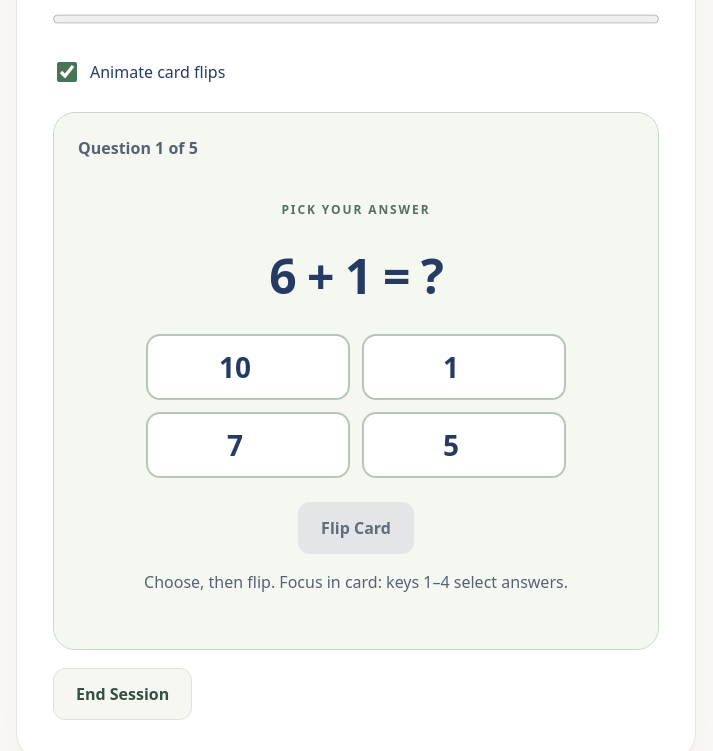
Test: practice session page › starts a real session, counts only reports, and resets/focuses the next card
(page scrolled)
Expected: the text "Question 1 of 5" is shown, [78,138,198,160]
Click the button "10". click: point(248, 367)
box: [146,334,350,400]
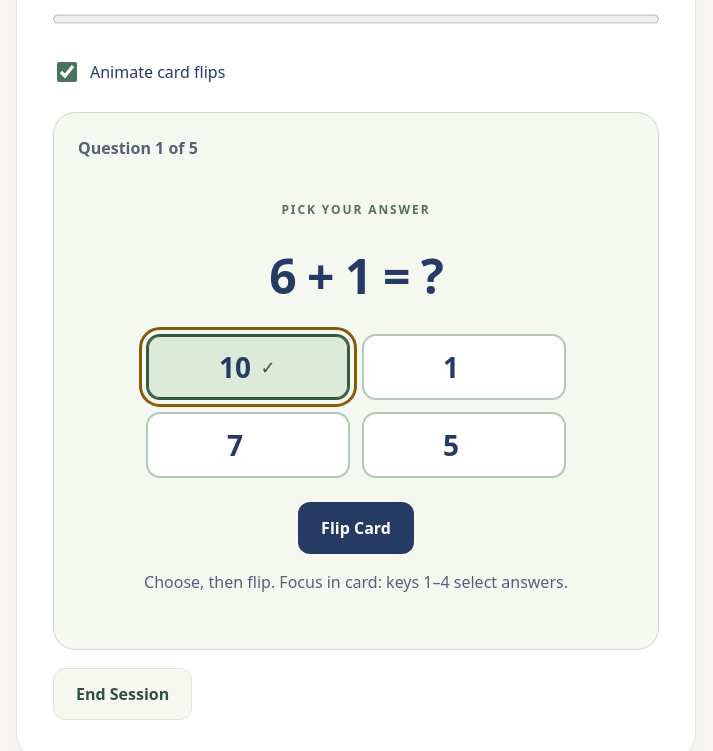
Click the button "Flip Card". click: point(356, 528)
box: [298,502,414,554]
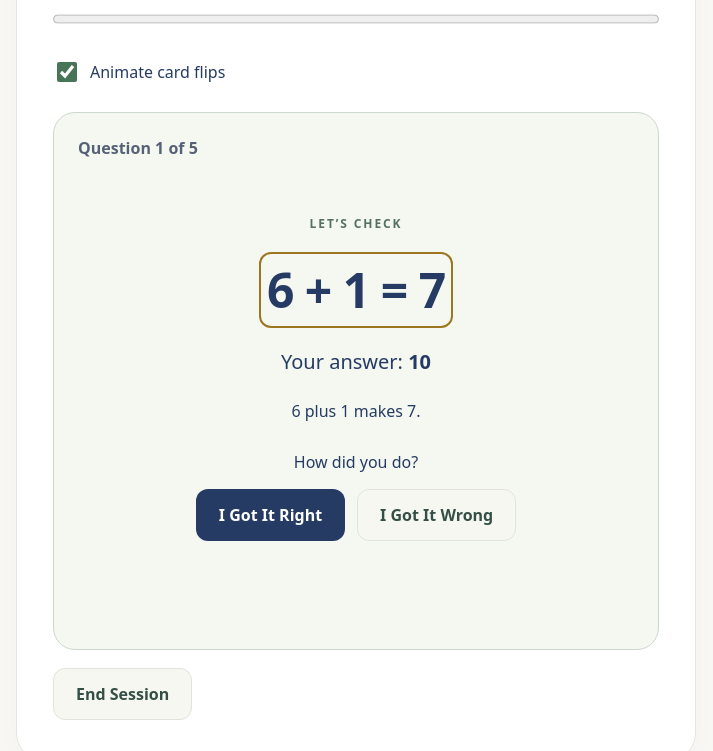
Click the button "I Got It Wrong". click: point(437, 516)
box: [357,490,516,542]
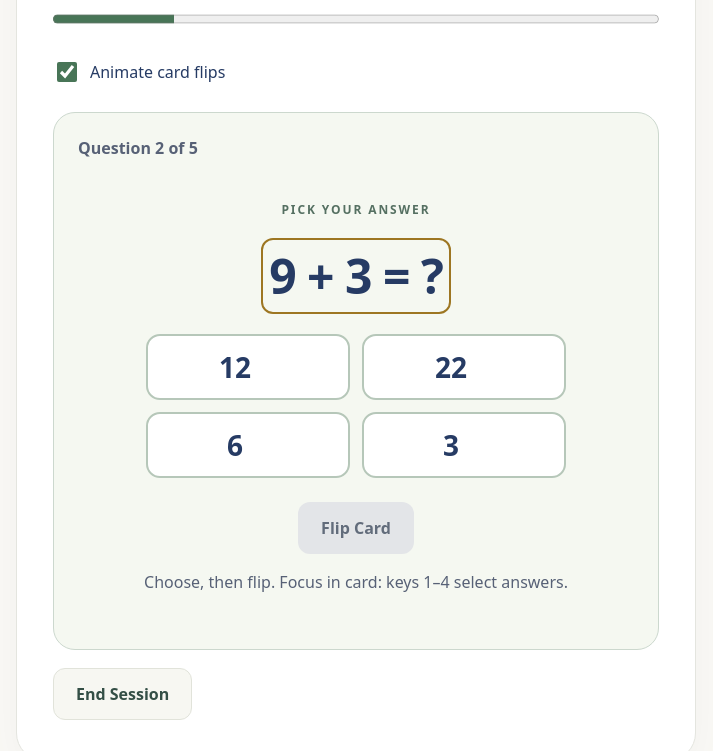
Now the text "Question 2 of 5" is shown, box [78,138,198,160]
Now the button "Flip Card" is disabled, box [298,502,414,554]
